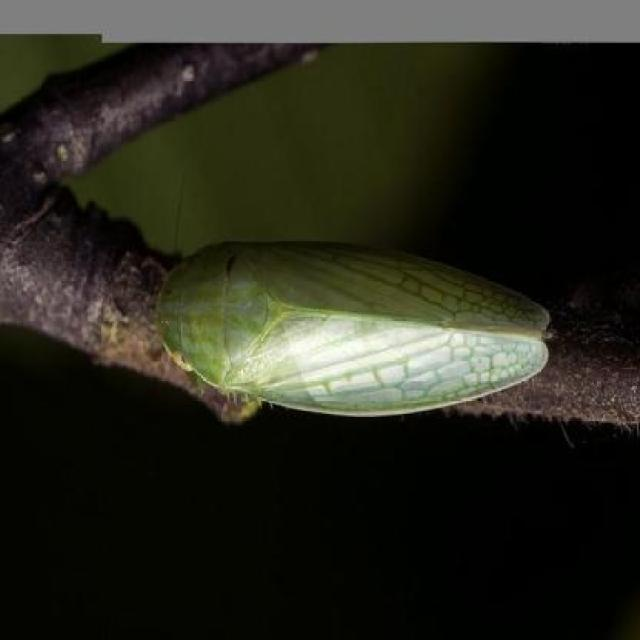green-leafhopper: (152, 238, 554, 427)
